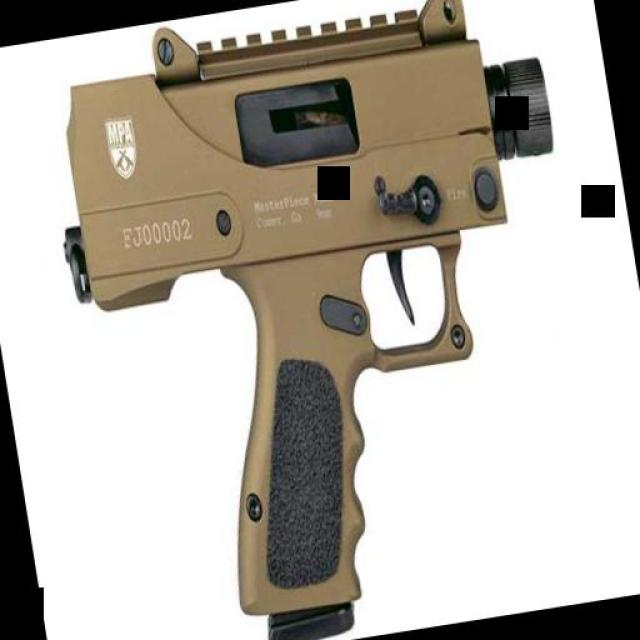gun: (29, 0, 629, 640)
